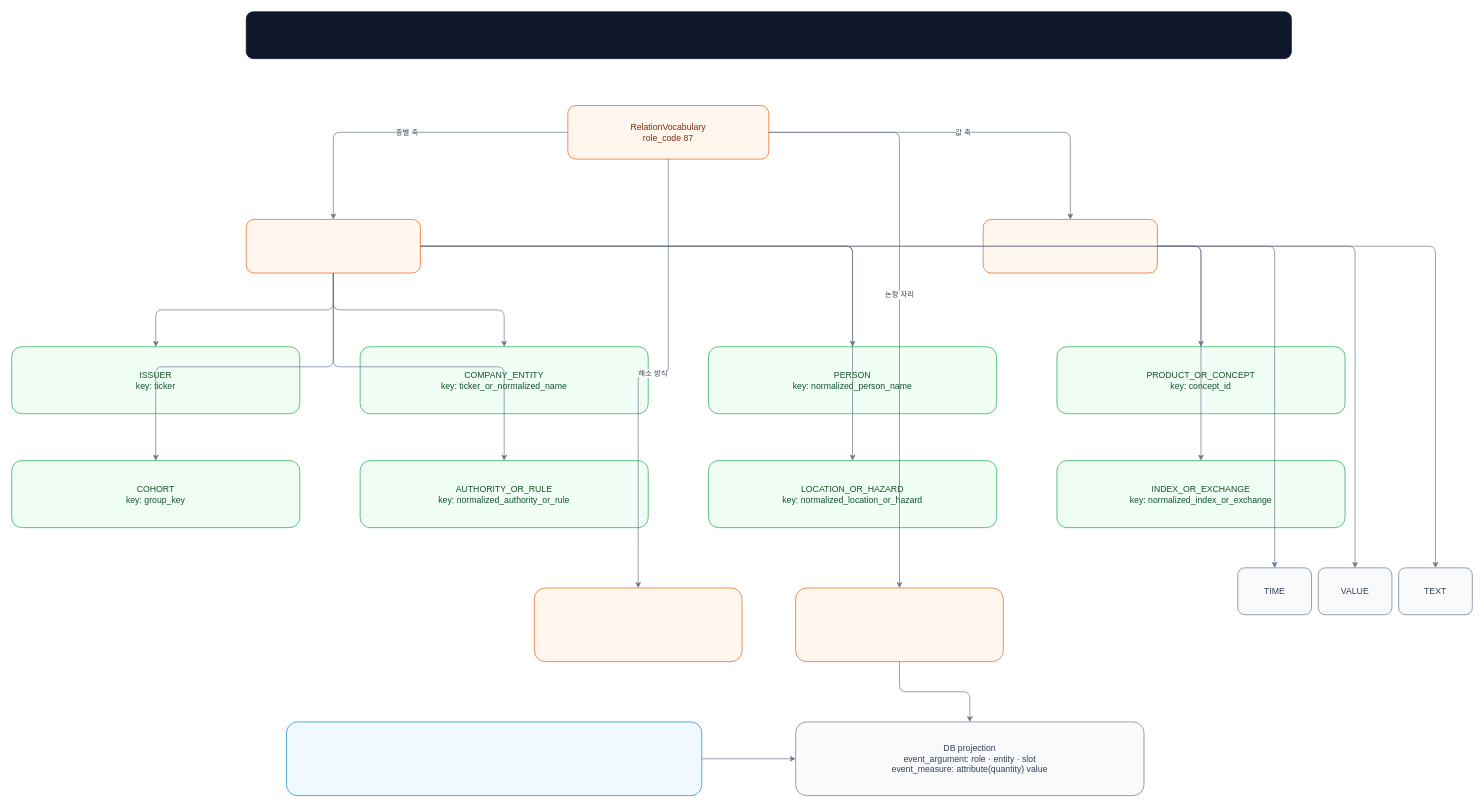
The diagram is 1484 pixels wide and 807 high, and some of its shapes have lost their labels. The centre of each missing label's shape, as x and y in pixels:
Attribute 공용 entity_state 13 타입 고유: QUANTITY · STATE · DERIVED: the point at 494,758
Relation · Entity · Attribute hierarchy — 현재 선언 축: the point at 768,35
논항 자리 축 (type, role) 154 pairs subject · object · qualifier: the point at 899,624
비실체 값 역할 37 role_kinds.non_entity: the point at 1070,246
실체 역할 50 role_kinds.entity: the point at 333,246
정체성 축 REGISTRY · MINT · NONE REGISTRY+mint_fallback: the point at 638,624
